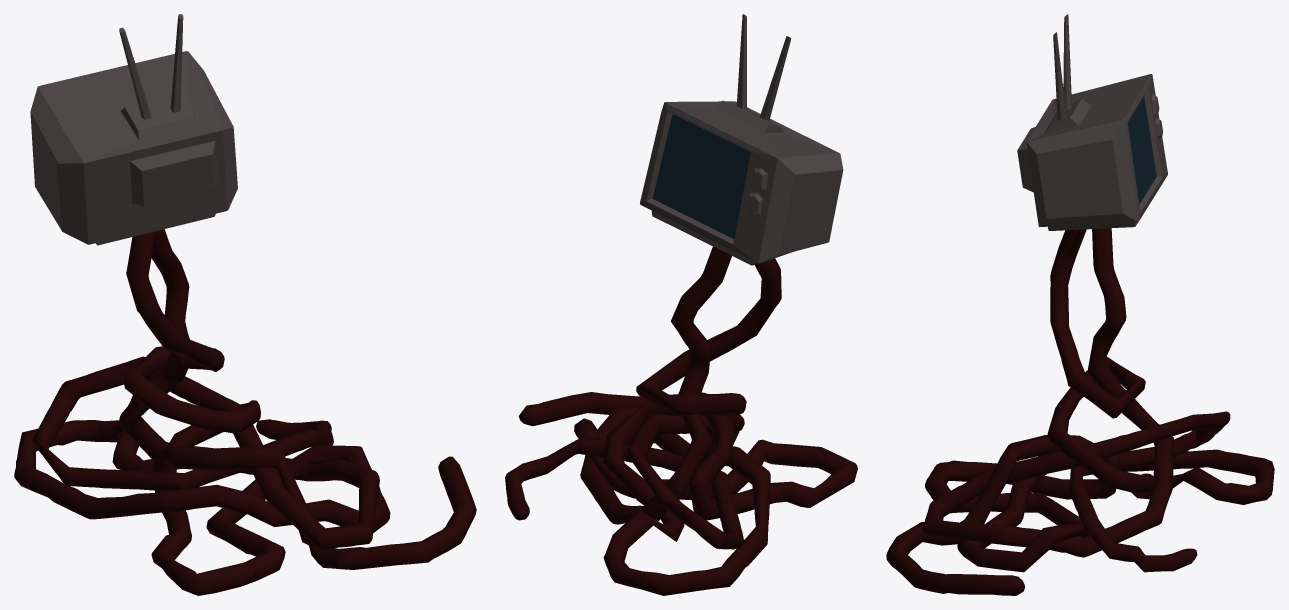
File: tvmonster.fbx
3 renders of one model, left to right at view 1: azimuth 30°, elevation 25°; view 2: azimuth 150°, elevation 25°; view 3: azimuth 270°, elevation 25°, orthographic. The views are drawn at different scales.
Visible parts, largest first — view 1: Cylinder1, Cube1, Cylinder0011; view 2: Cylinder1, Cube1, Cylinder0011, Part1; view 3: Cylinder1, Cylinder0011, Cube1, Part1.
Part boxes in pixels (x1=…): Cylinder1: x1=14, y1=231, x2=476, y2=595; Cube1: x1=30, y1=14, x2=237, y2=245; Cylinder0011: x1=32, y1=229, x2=379, y2=549; Cylinder1: x1=518, y1=258, x2=857, y2=595; Cube1: x1=640, y1=14, x2=843, y2=265; Cylinder0011: x1=505, y1=246, x2=744, y2=549; Part1: x1=652, y1=114, x2=750, y2=238; Cylinder1: x1=886, y1=229, x2=1274, y2=595; Cylinder0011: x1=922, y1=228, x2=1230, y2=572; Cube1: x1=1017, y1=14, x2=1167, y2=230; Part1: x1=1127, y1=96, x2=1156, y2=204.
Bounding box in the file's own units: 531 × 728 × 540.
